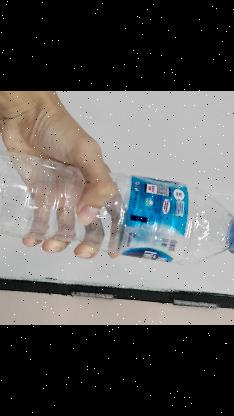Plastic Bottle: (0, 145, 234, 265)
